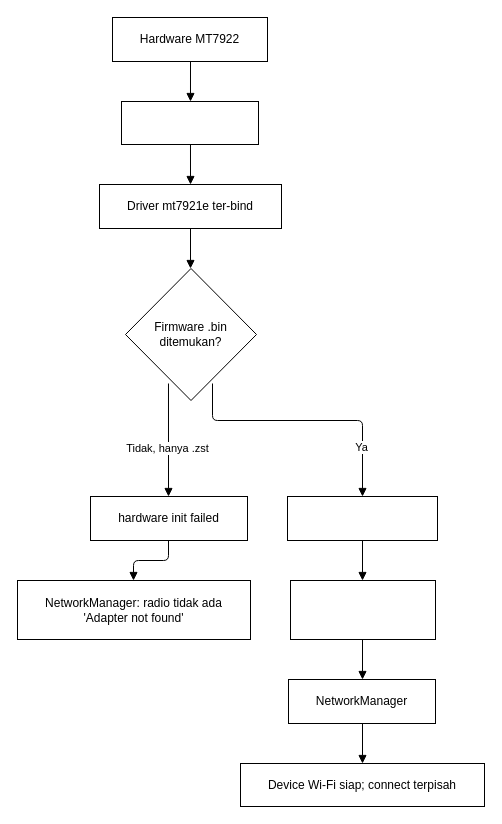
Some shapes in this 502 by 824 pixel diagram are drawn without their labels. Here are the shapes that lost their labels. From the top down, the box of each, then its label:
(120, 100, 258, 144): Terlihat di PCIe
(286, 496, 438, 540): Firmware ter-load
(290, 580, 436, 640): wlan0 di-rename (mis. wlP1p1s0)
